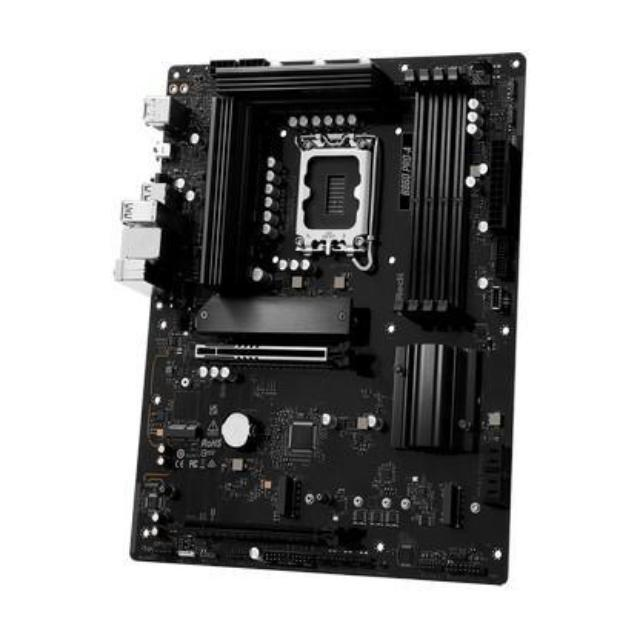Mainboard: (113, 50, 518, 587)
